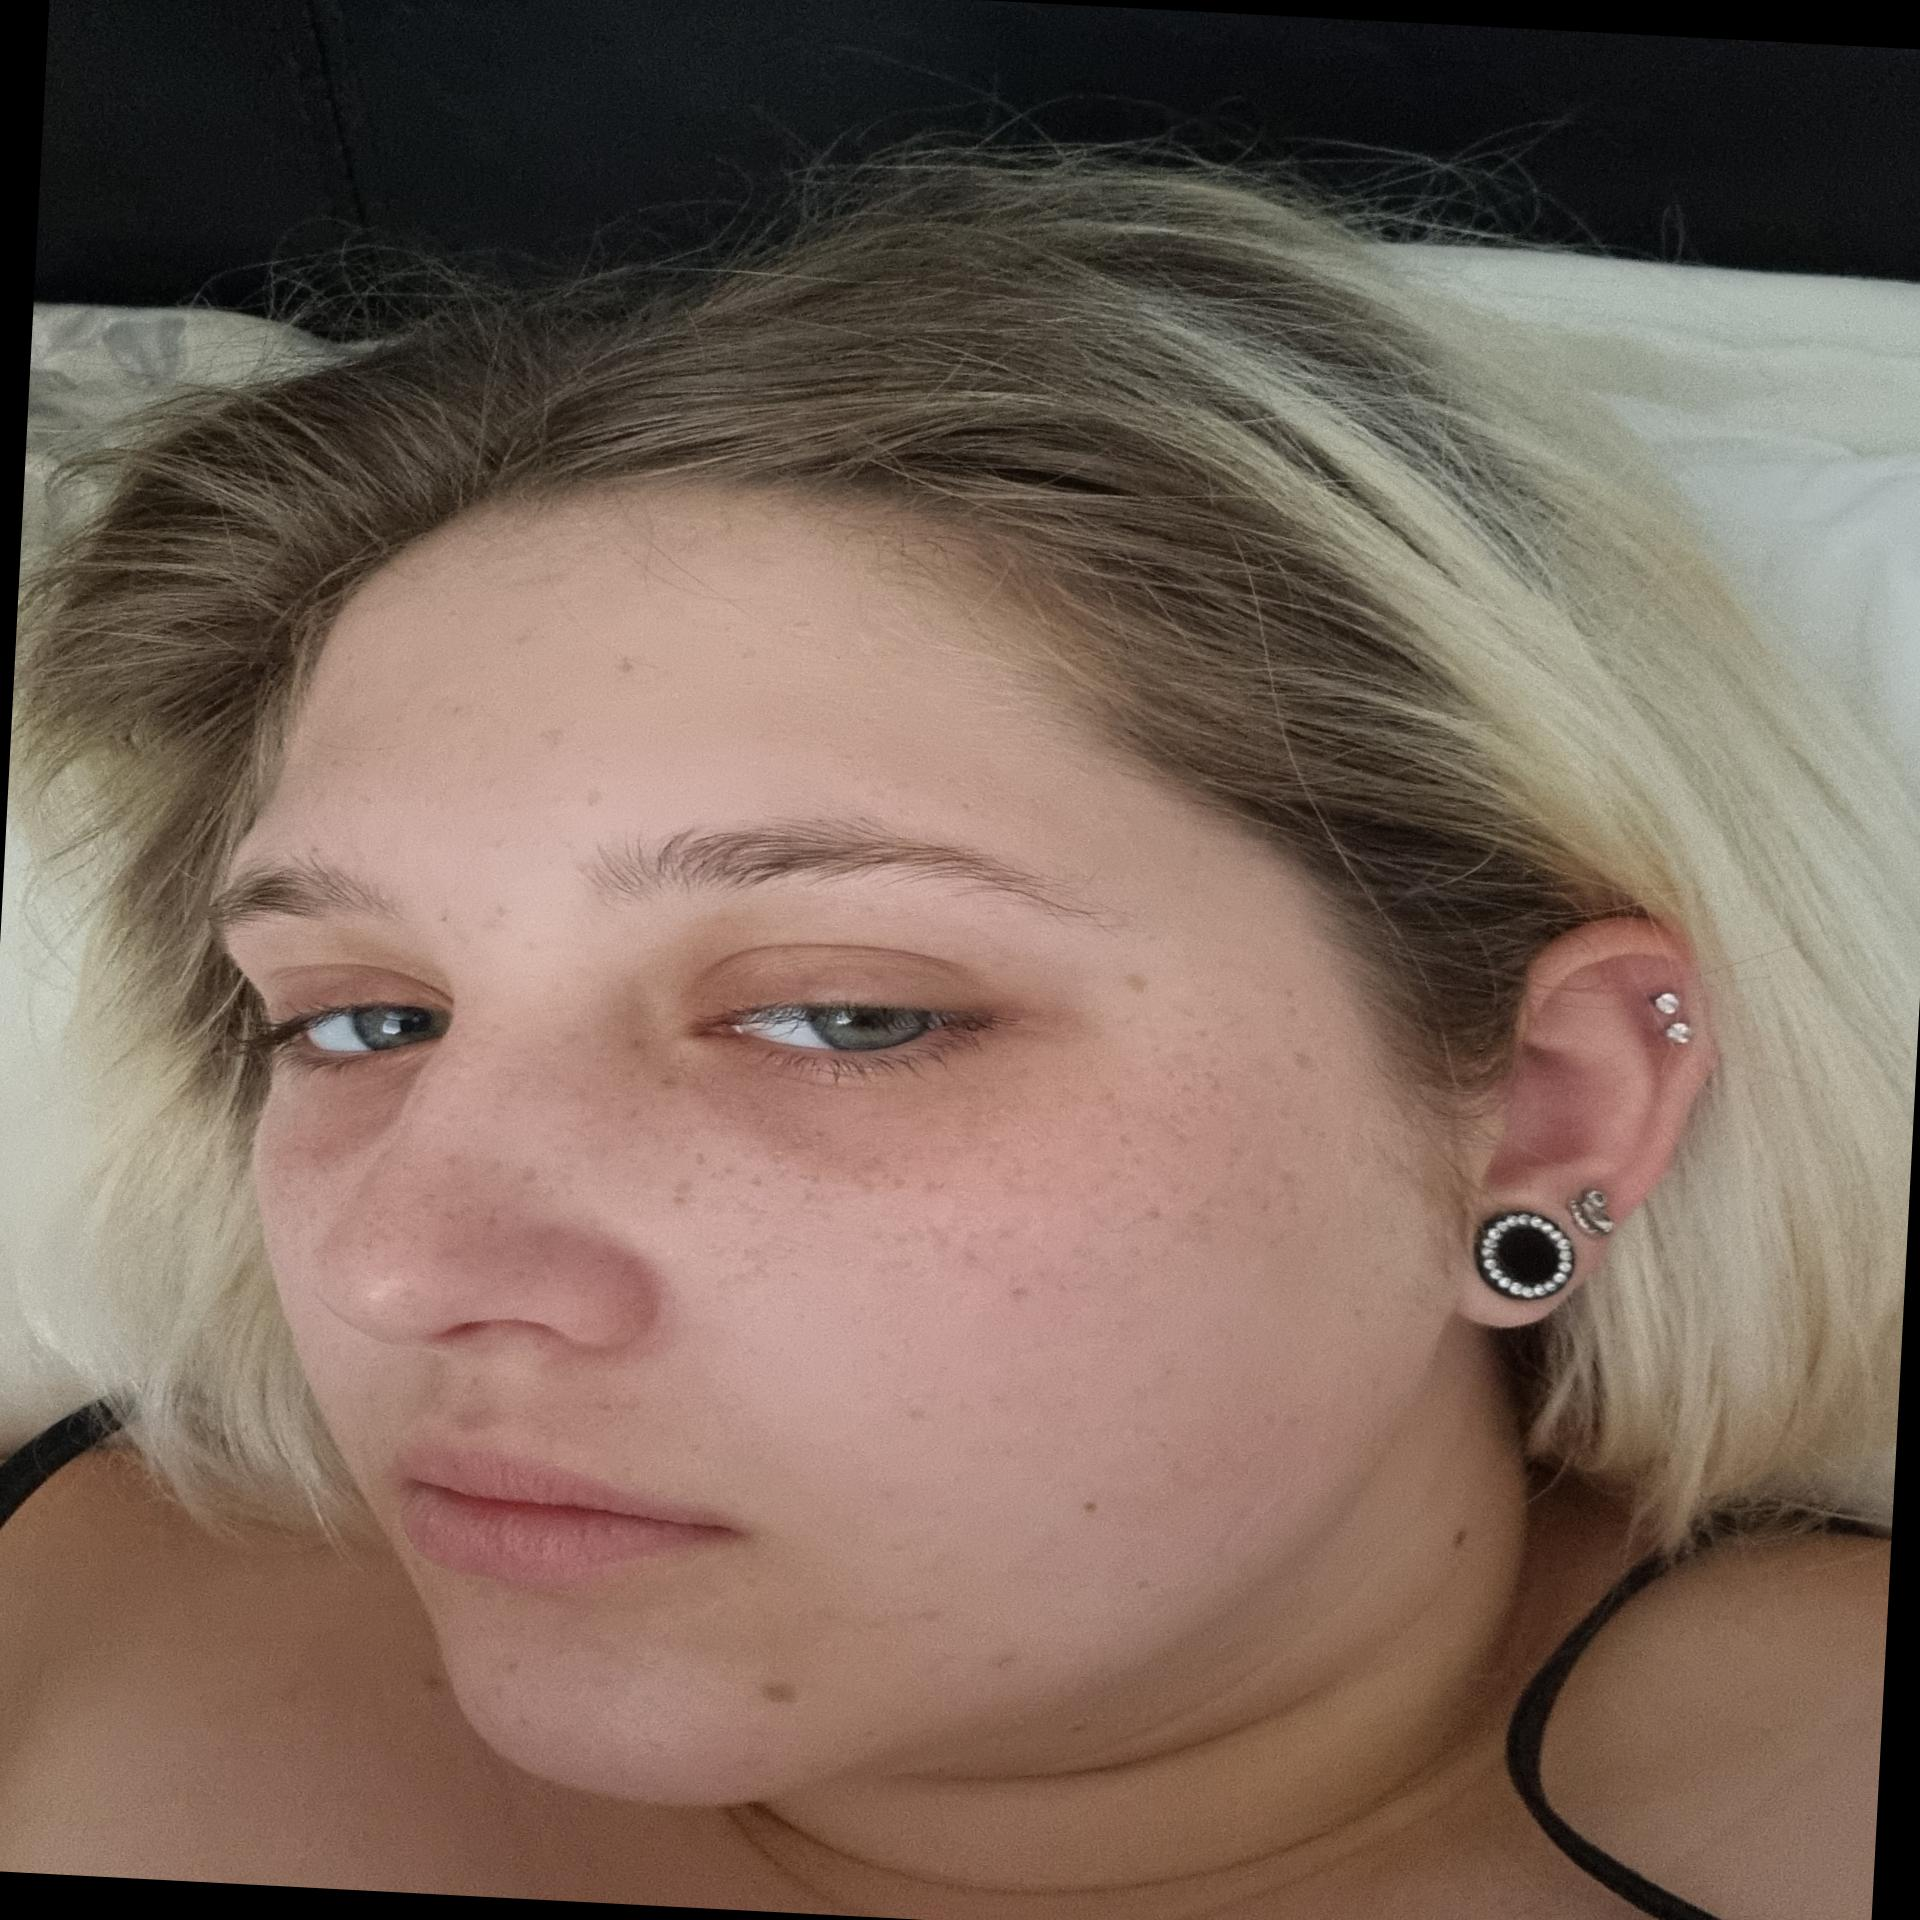Acne: (756, 1670, 804, 1711)
Dark Circles: (658, 1000, 1050, 1190), (257, 1029, 443, 1171)
